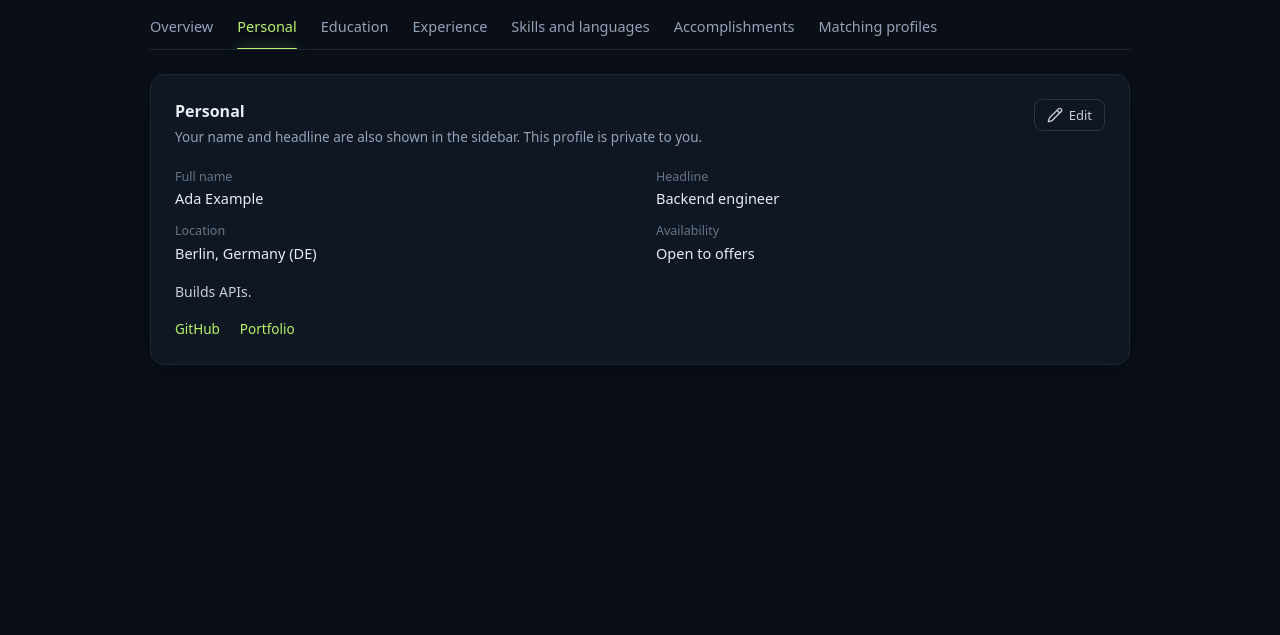
Scenario: Personal: editing › sends every personal field, trimmed and with the country upper-cased, and shows the saved details
The image size is (1280, 635).
Click the button with aria-label "Edit Personal" at (1069, 115), box [1034, 99, 1105, 131]
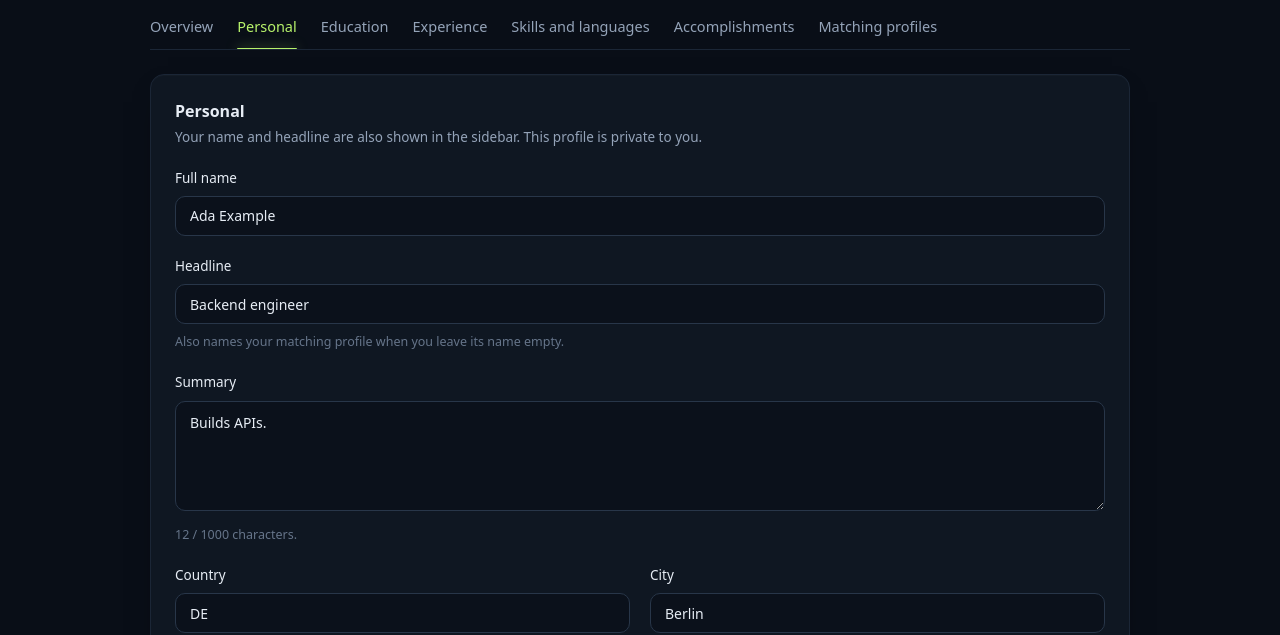
Type "  Staff engineer " into the field labelled "Headline" at (640, 304), box [175, 284, 1105, 324]
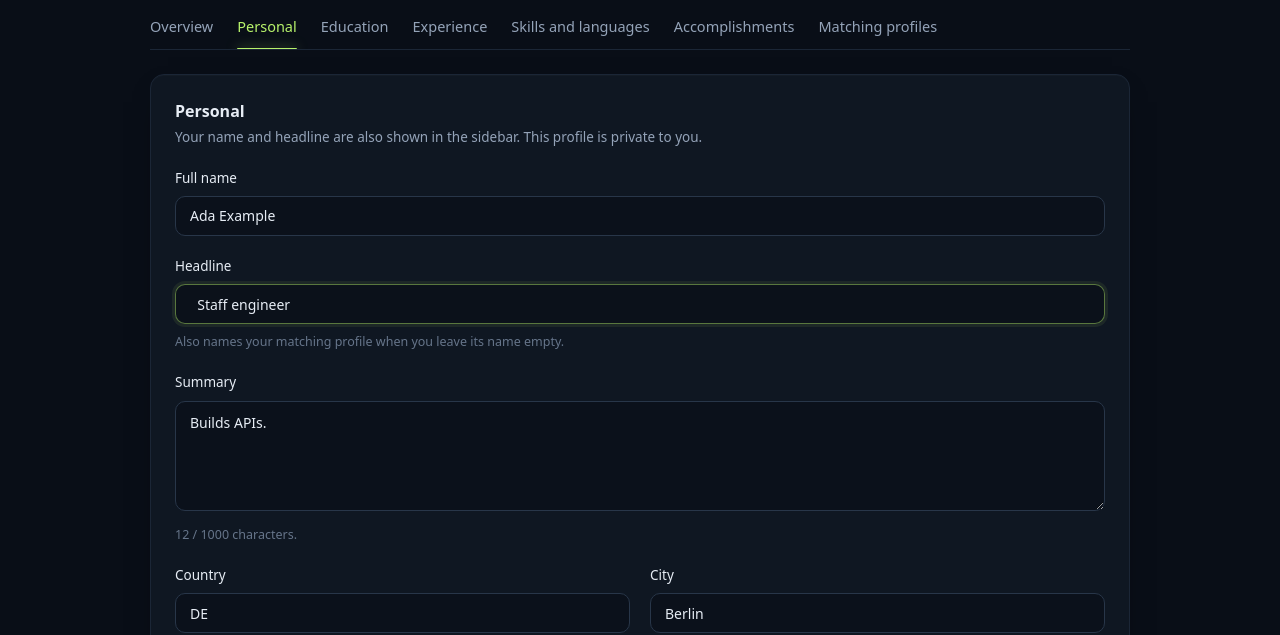
Type "bd" into the field labelled "Country" at (402, 613), box [175, 593, 630, 633]
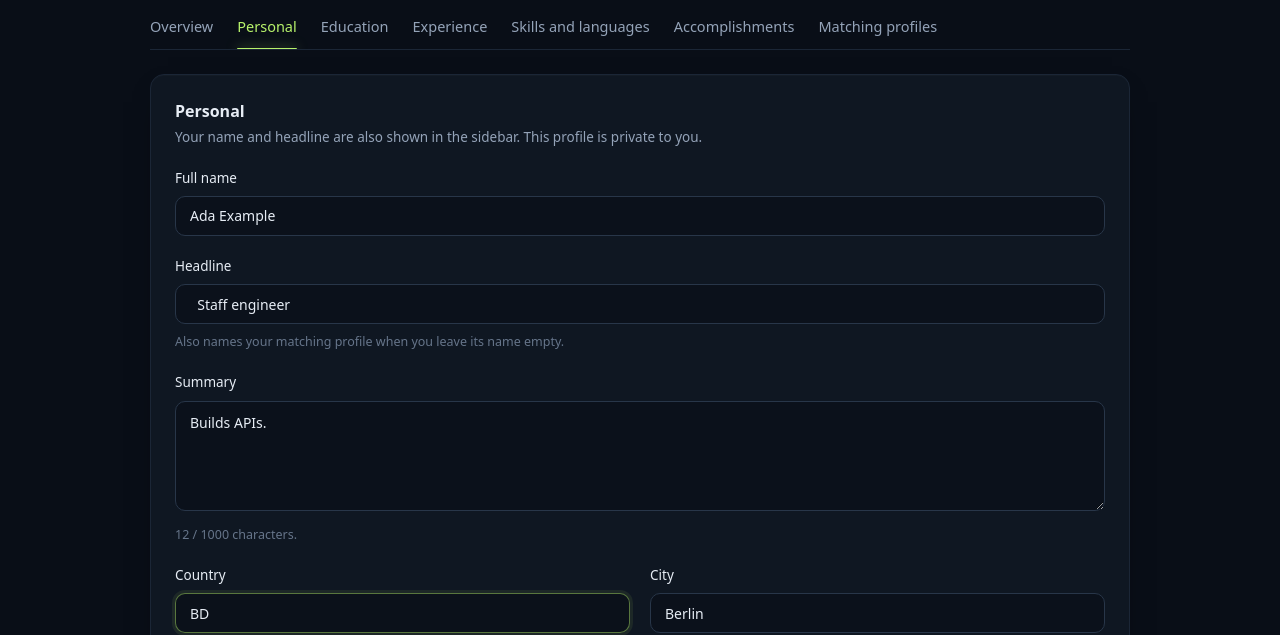
Clear the field labelled "City" at (878, 613), box [650, 593, 1105, 633]
(page scrolled)
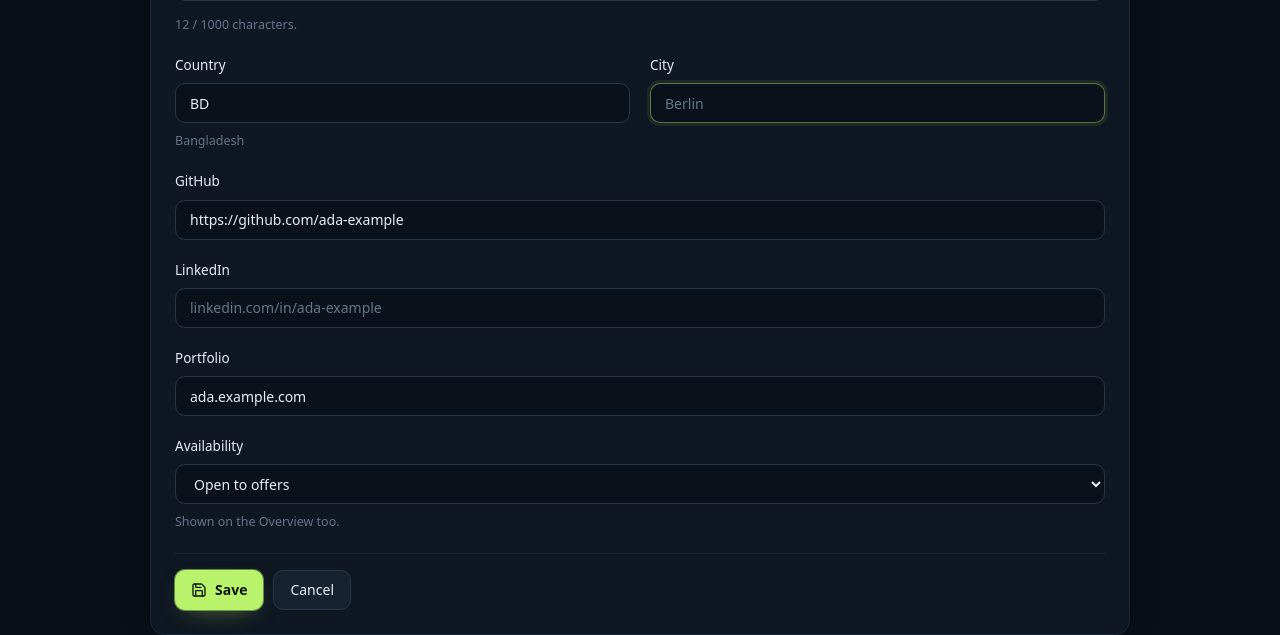
Select "Available immediately" in the dropdown labelled "Availability" at (640, 484), box [175, 464, 1105, 504]
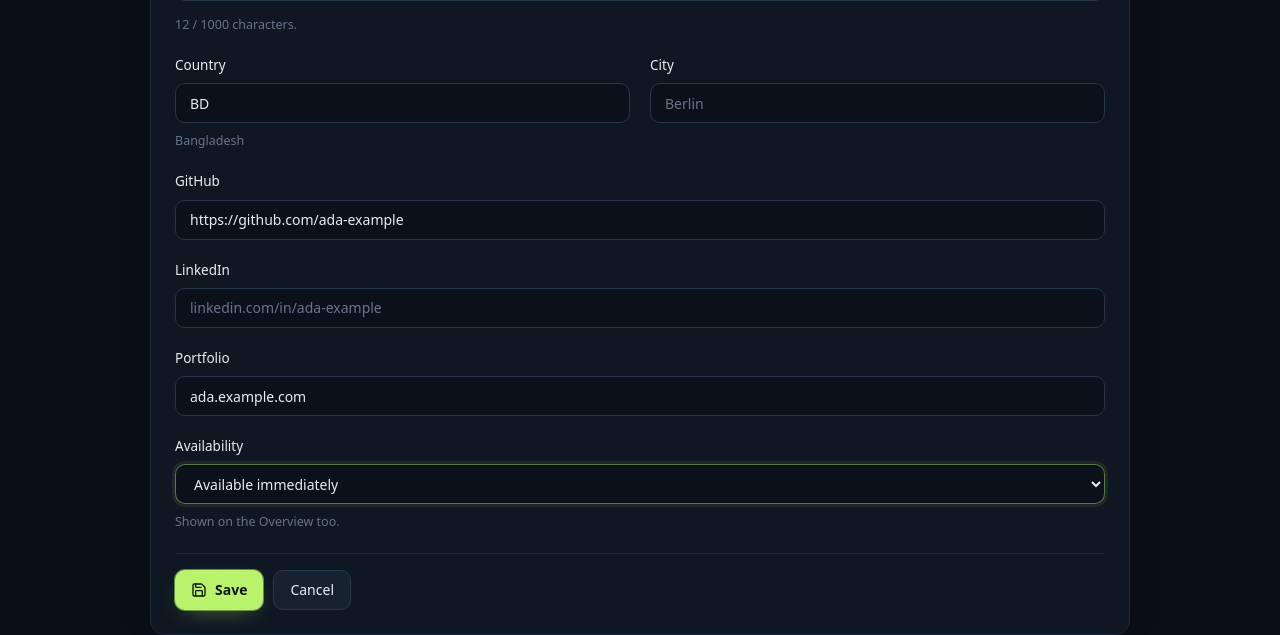
Click the button "Save" at (219, 590), box [175, 570, 263, 610]
(page scrolled)
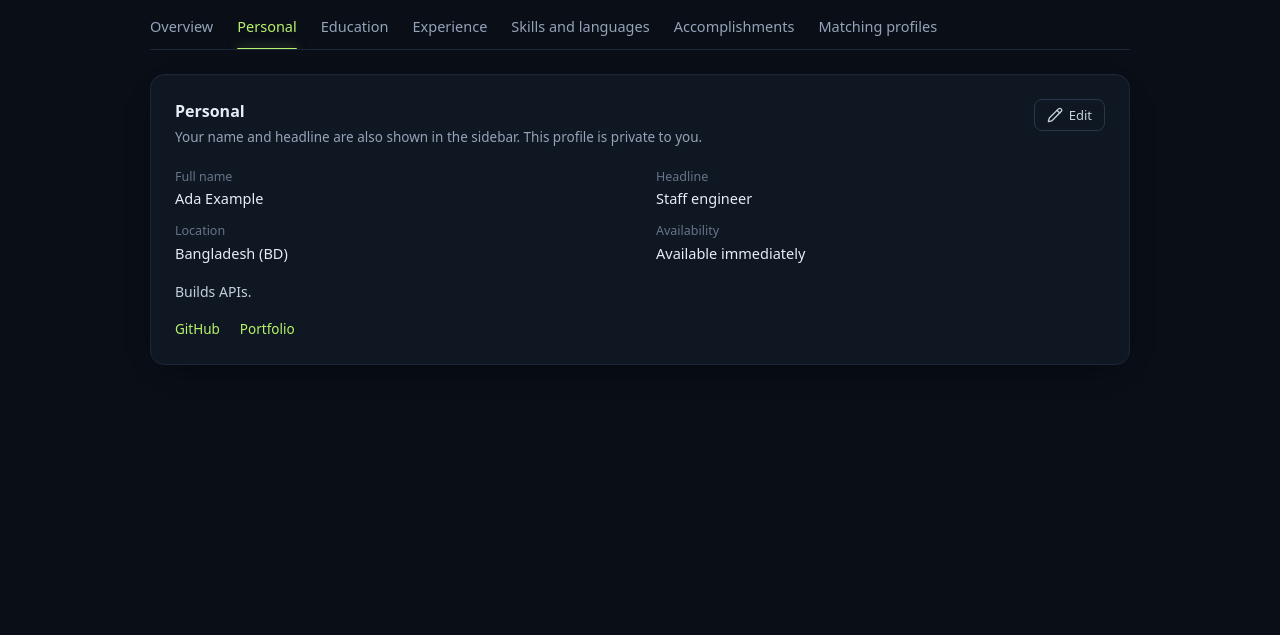
Check: the button with aria-label "Edit Personal" is shown, box [1034, 99, 1105, 131]
Check: the text "Staff engineer" is shown, box [656, 188, 752, 208]
Check: the text "Available immediately" is shown, box [656, 243, 805, 263]
